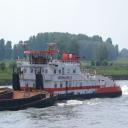tugboat: (12, 44, 124, 103)
